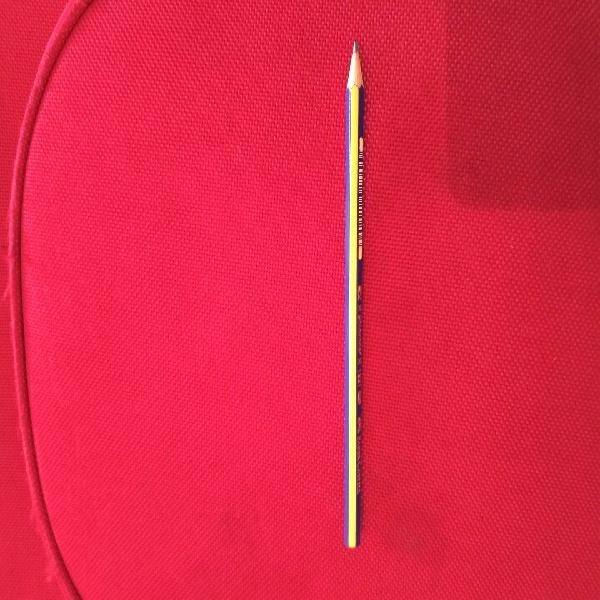pencil: (340, 39, 366, 553)
